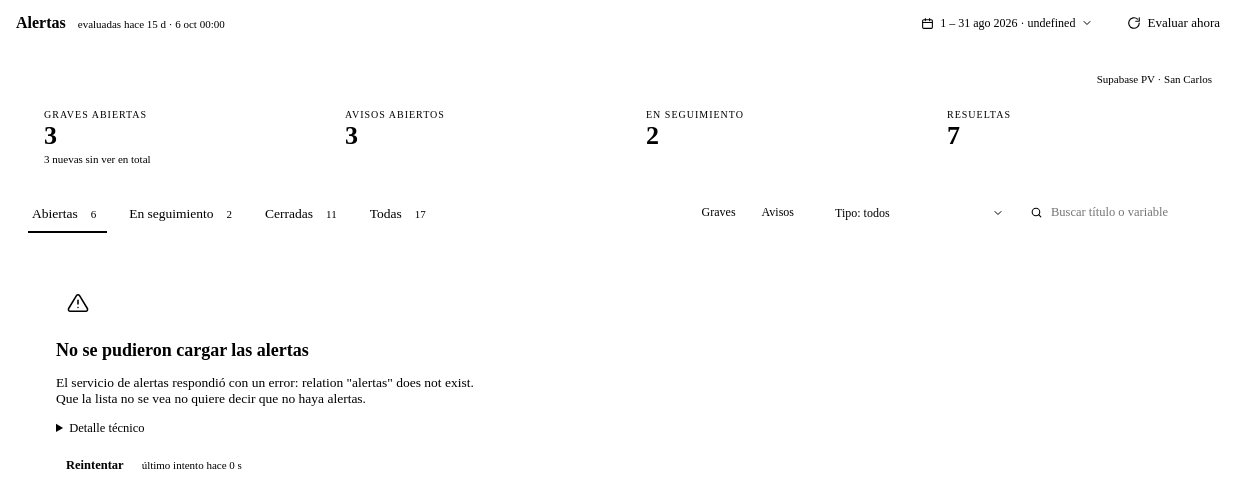
Test: el servicio falla › muestra el fallo con su detalle técnico y Reintentar vuelve a pedir
Expected: the message "No se pudieron cargar las alertas" shows "El servicio de alertas respondió con un error", [56, 375, 474, 390]
Expected: the heading "Detalle técnico" is shown, [56, 421, 145, 436]
// When se reintenta / Then vuelve a pedir y aparece la lista
Click the button "Reintentar" at (95, 465), box [56, 450, 134, 480]
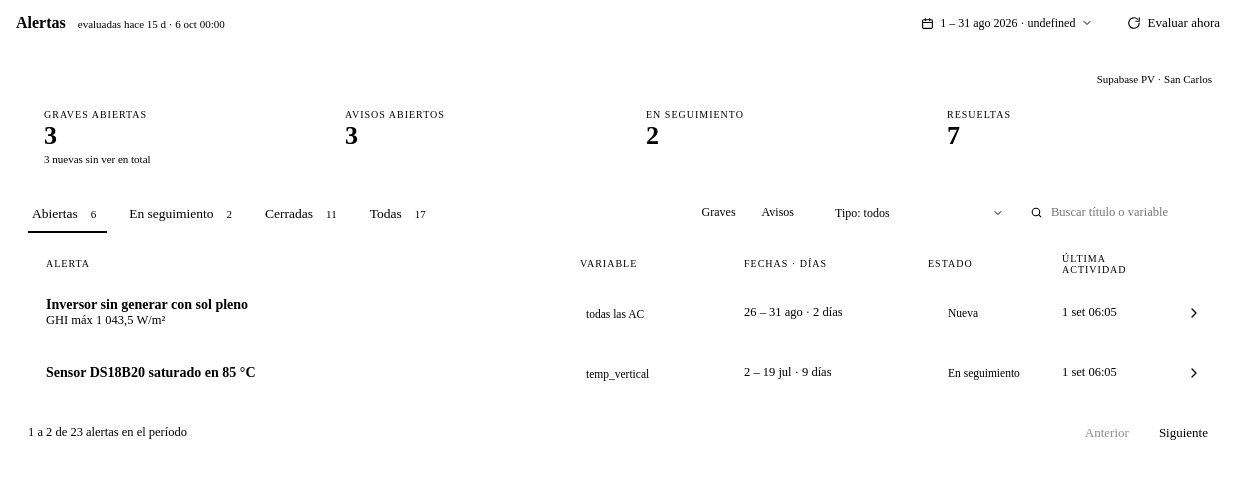
Expected: the button "Inversor sin generar" is shown, [28, 283, 1220, 343]
